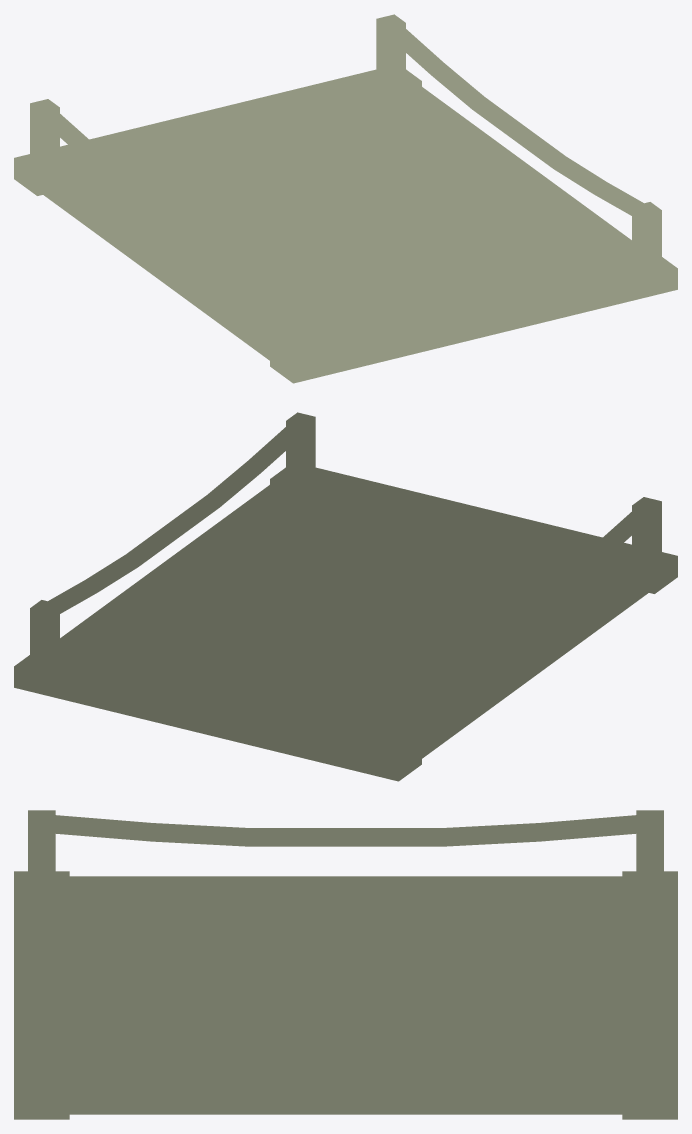
Rendered from small_bridge.dae.
3 renders of one model, top to bottom at view 1: azimuth 30°, elevation 25°; view 2: azimuth 150°, elevation 25°; view 3: azimuth 270°, elevation 25°, orthographic. The views are drawn at different scales.
Visible parts, largest first — view 1: cube1-0; view 2: cube1-0; view 3: cube1-0.
Boxes of the visible parts, <box> form: cube1-0: <box>14,14,677,383</box>; cube1-0: <box>14,412,677,781</box>; cube1-0: <box>14,810,677,1119</box>.
Size of the model in its own units: 898 by 173 by 1129.
